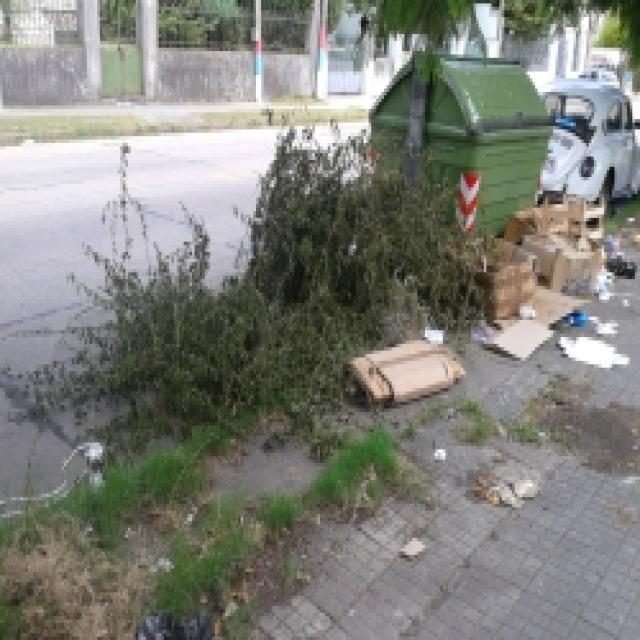garbage: (458, 180, 640, 375), (341, 317, 471, 405)
